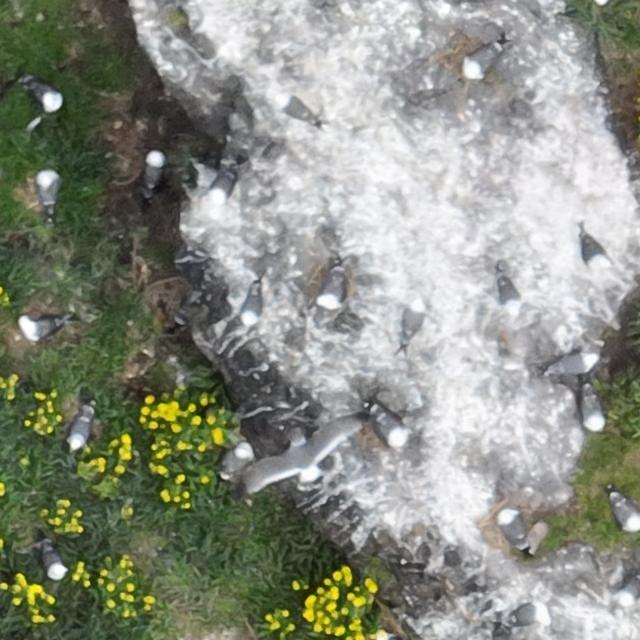umineko: (250, 418, 358, 488), (272, 90, 322, 128), (580, 229, 617, 271), (209, 164, 241, 206), (506, 598, 551, 626), (499, 512, 529, 550), (372, 409, 405, 443), (220, 442, 252, 477), (548, 354, 596, 377), (319, 270, 345, 310), (465, 44, 498, 75), (28, 81, 63, 109), (612, 495, 639, 531), (68, 408, 91, 448), (23, 316, 64, 338), (402, 299, 422, 341), (584, 391, 605, 430), (240, 286, 260, 326), (44, 545, 67, 579), (145, 151, 165, 189), (39, 172, 60, 208), (497, 278, 517, 306)
